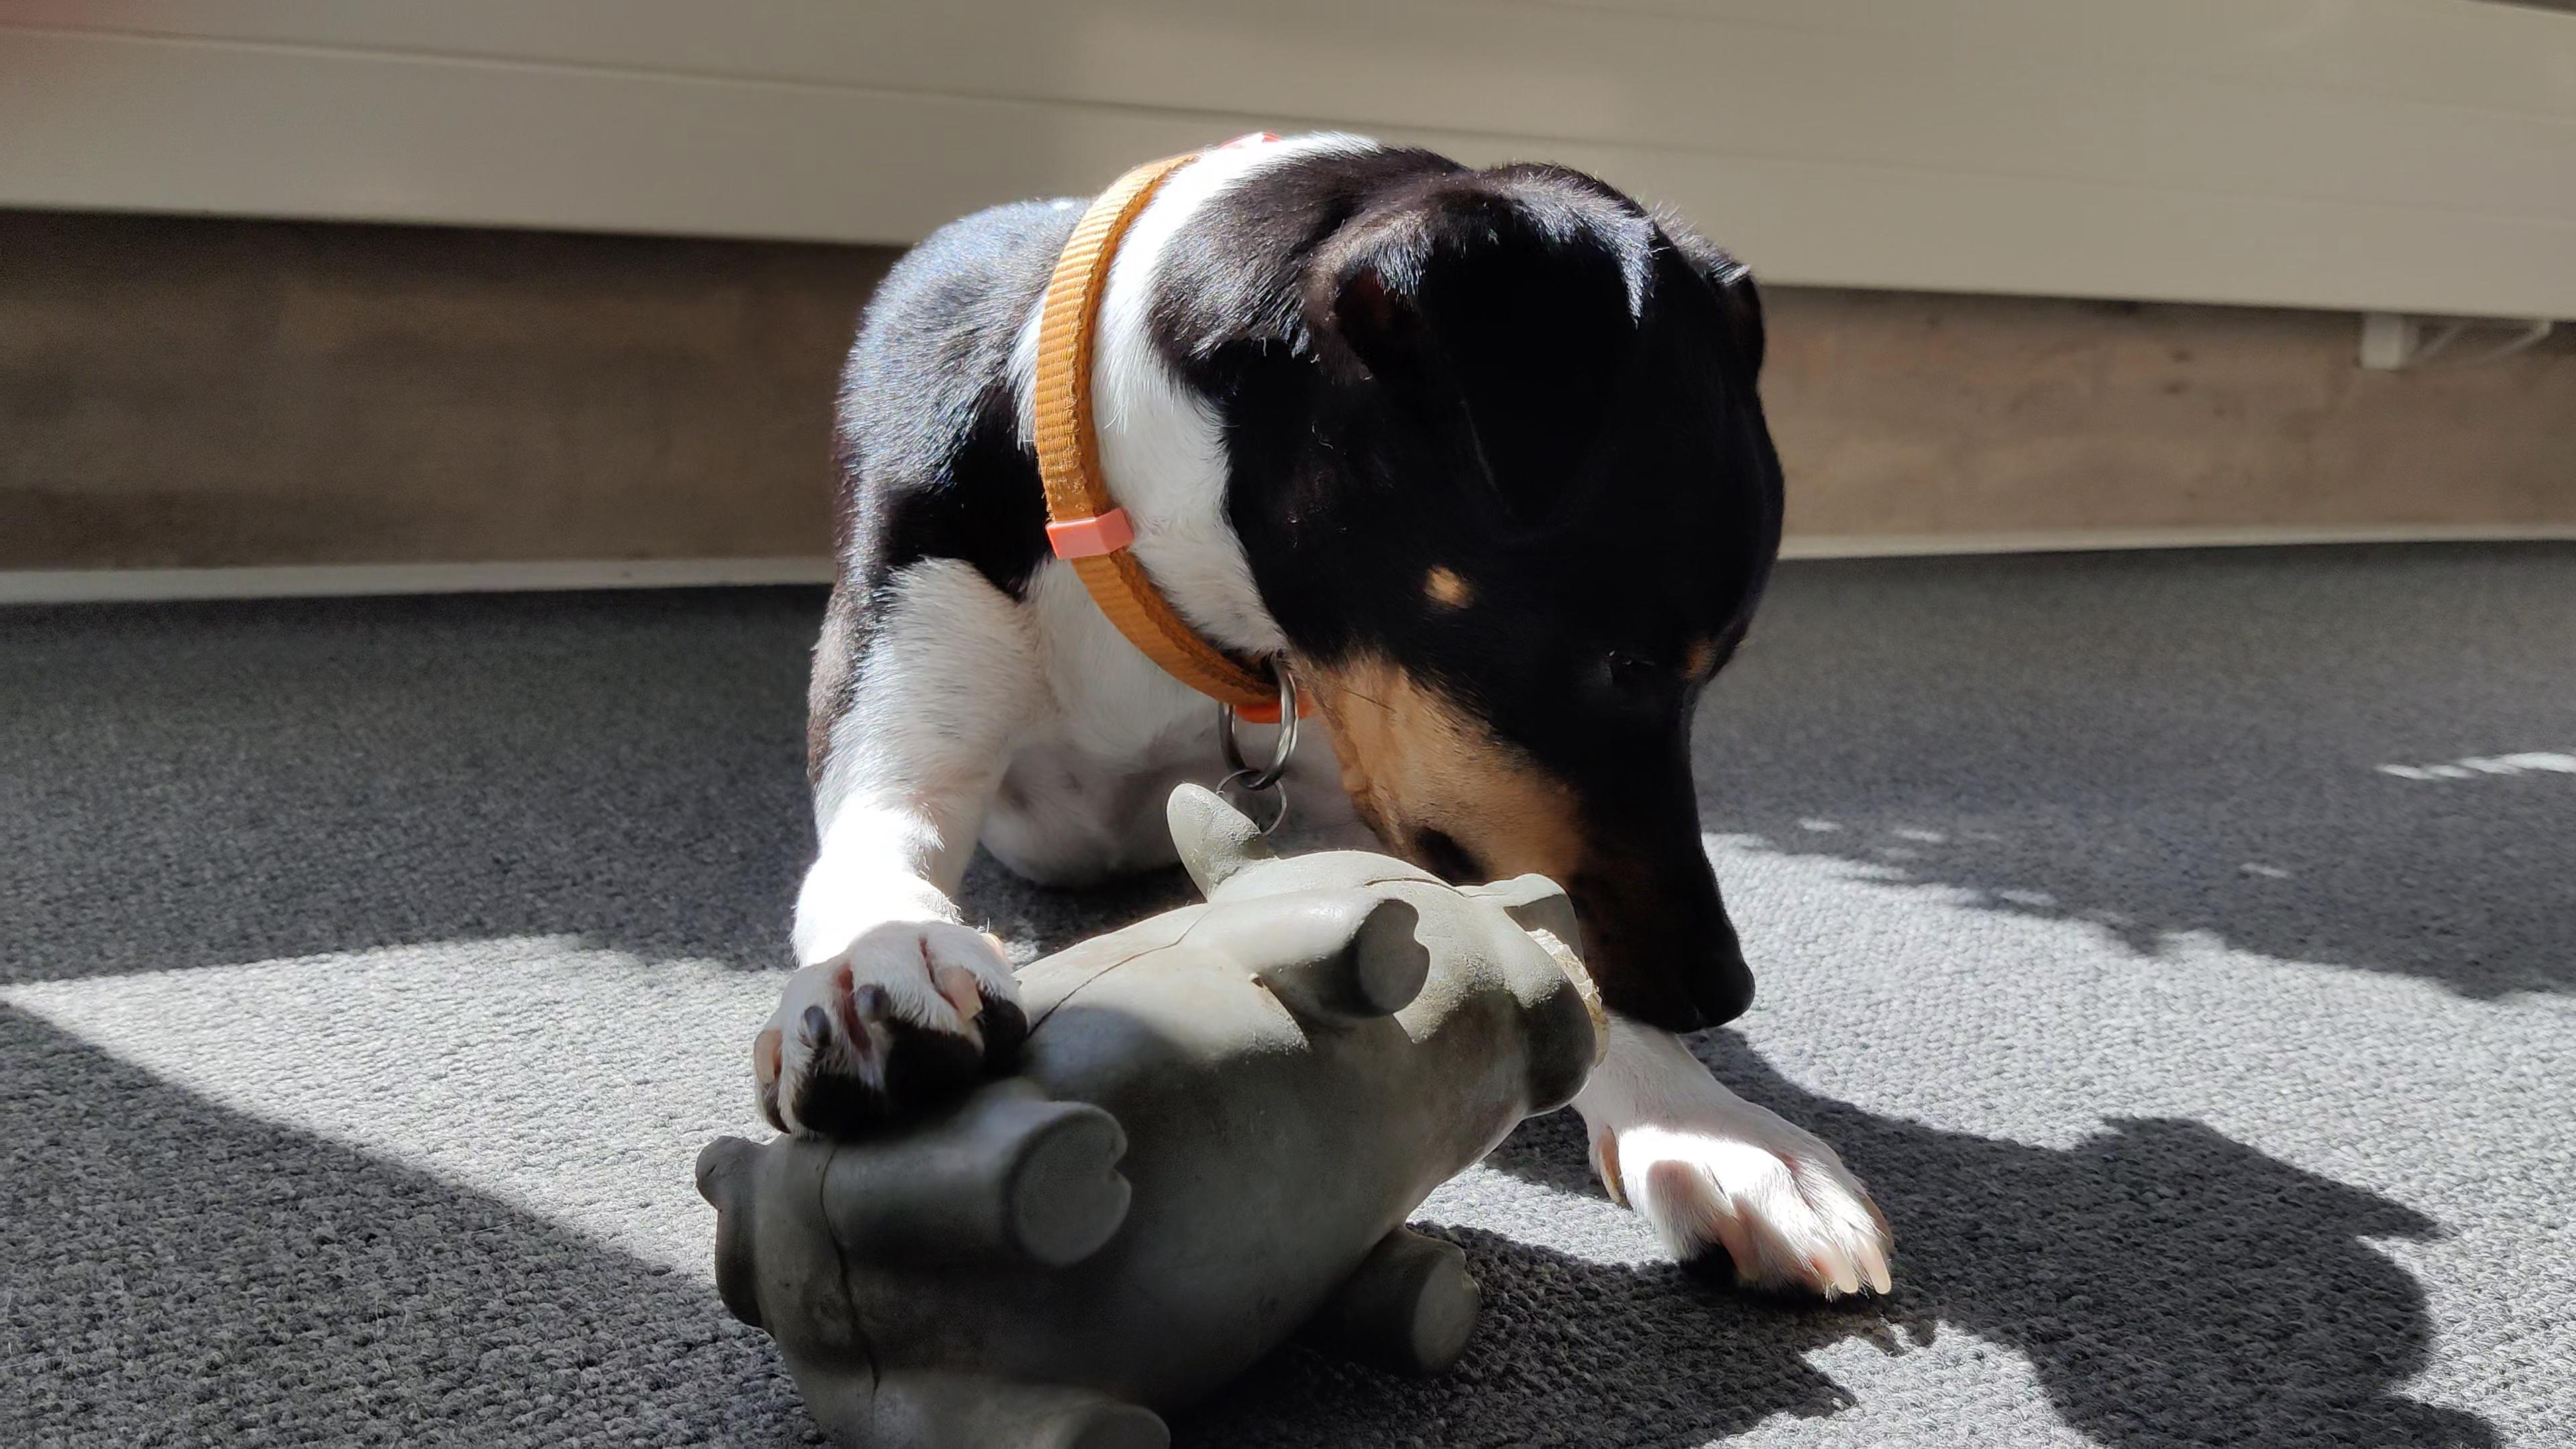Dog: (727, 117, 1914, 1313)
